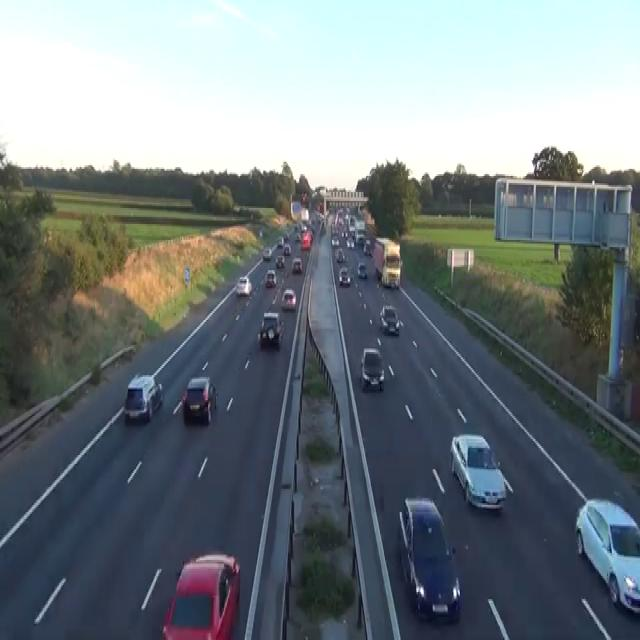Car: (398, 496, 461, 622), (574, 498, 639, 615), (161, 553, 240, 638), (450, 432, 506, 510), (123, 372, 163, 422), (182, 375, 218, 423), (360, 347, 384, 391), (258, 311, 283, 347), (379, 304, 399, 334), (235, 275, 252, 297), (281, 288, 296, 311), (338, 265, 351, 286), (265, 268, 276, 286), (300, 231, 311, 249), (292, 256, 302, 274), (363, 238, 372, 256), (357, 262, 367, 278), (336, 247, 345, 263), (262, 246, 272, 260), (275, 254, 285, 268), (355, 231, 365, 245), (346, 238, 355, 249), (331, 233, 339, 245), (300, 192, 308, 204), (283, 244, 291, 254), (300, 222, 307, 233), (277, 235, 283, 247), (283, 231, 289, 242), (295, 233, 300, 242), (294, 222, 299, 231), (259, 228, 262, 236)
Truck: (372, 236, 402, 288)
